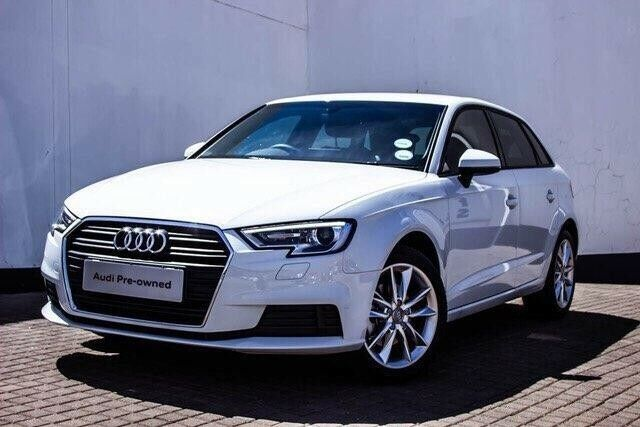audi: (106, 228, 176, 258)
